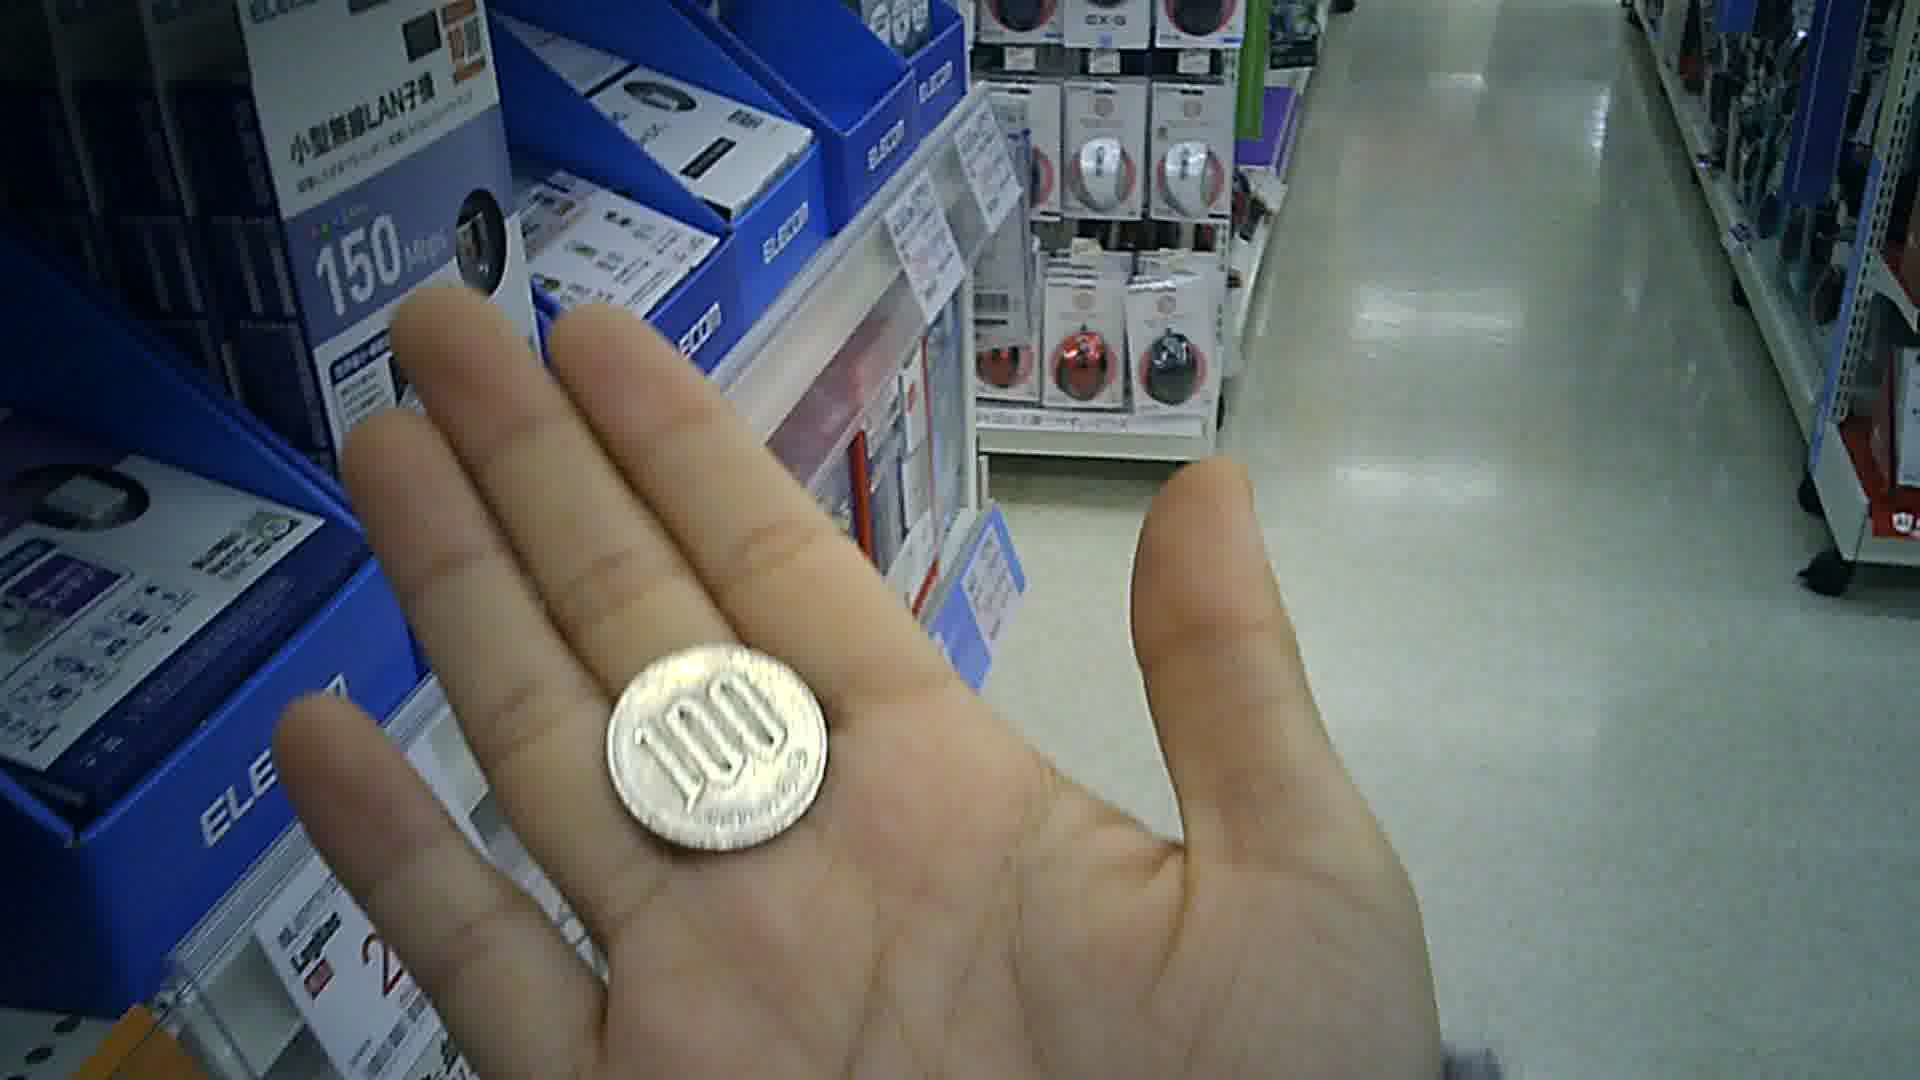100 Yen: (605, 640, 839, 858)
